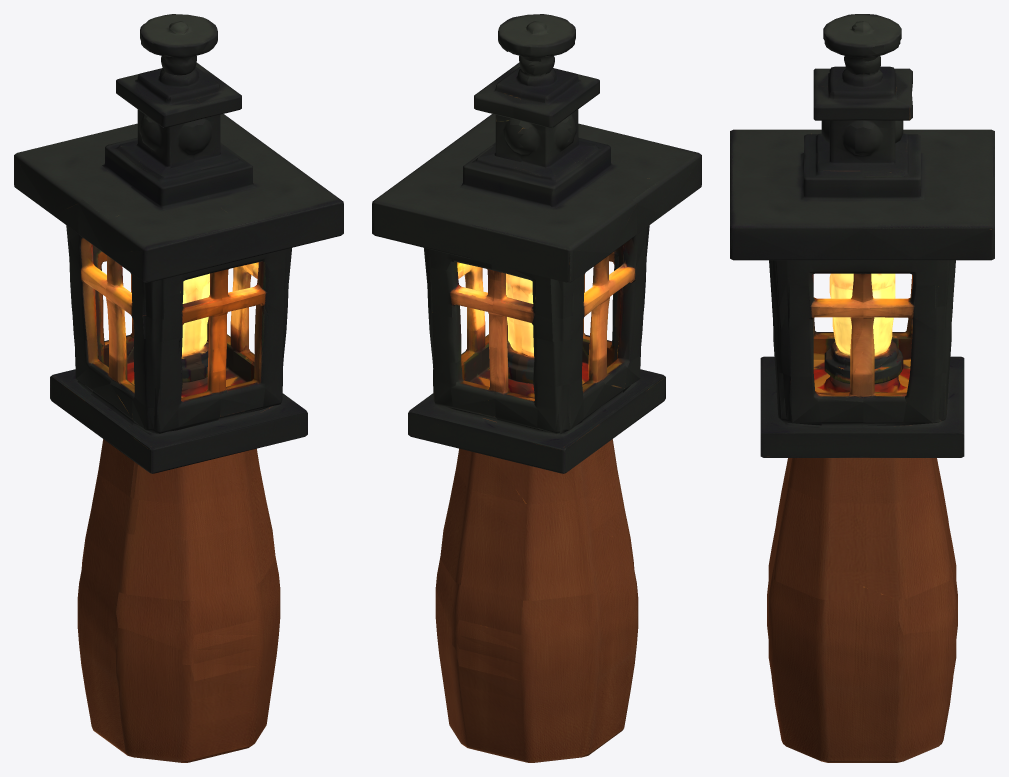
File: s1_quality_path_lantern.glb
3 renders of one model, left to right at view 1: azimuth 30°, elevation 25°; view 2: azimuth 150°, elevation 25°; view 3: azimuth 270°, elevation 25°, orthographic.
Bounding box in the file's own units: 0.5675 × 1.91 × 0.6458.
1 material, 1 textured.
